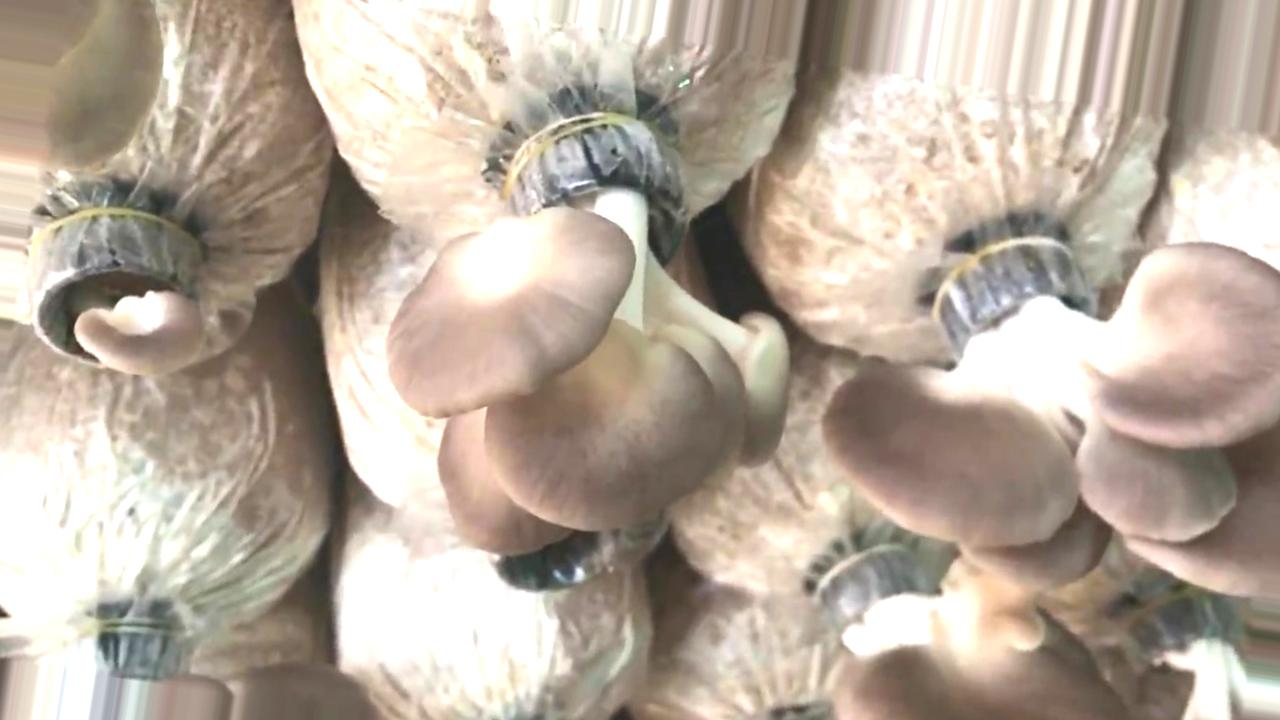nam: (391, 120, 791, 556), (824, 234, 1280, 596), (823, 555, 1124, 720), (30, 191, 209, 372), (1, 1, 157, 162)
